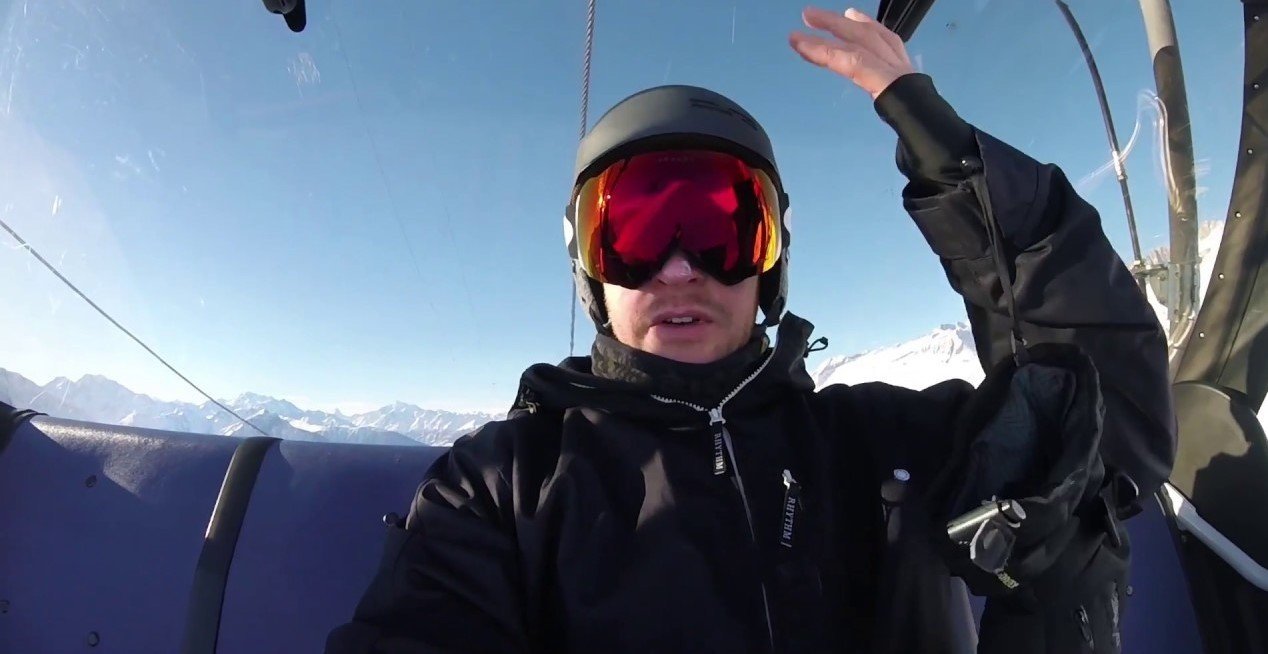face_no_mask: (568, 154, 802, 385)
